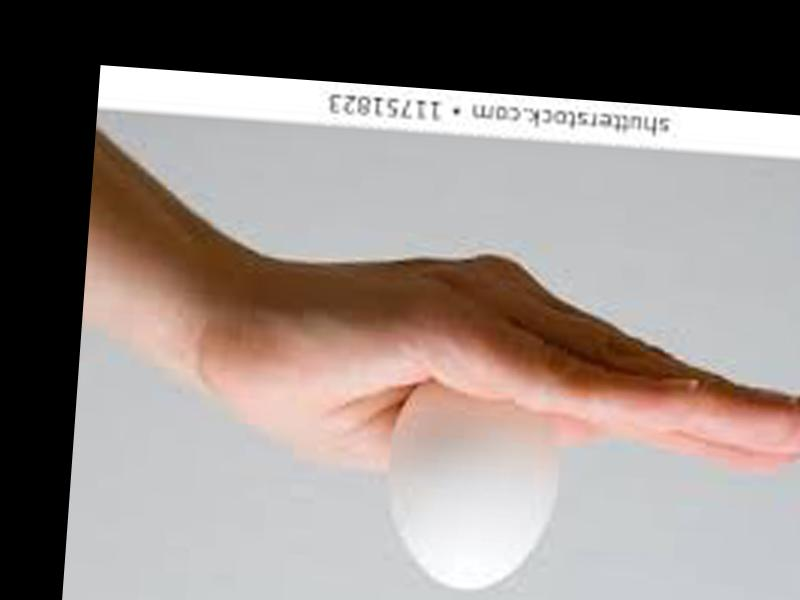Eggs: (389, 377, 564, 593)
